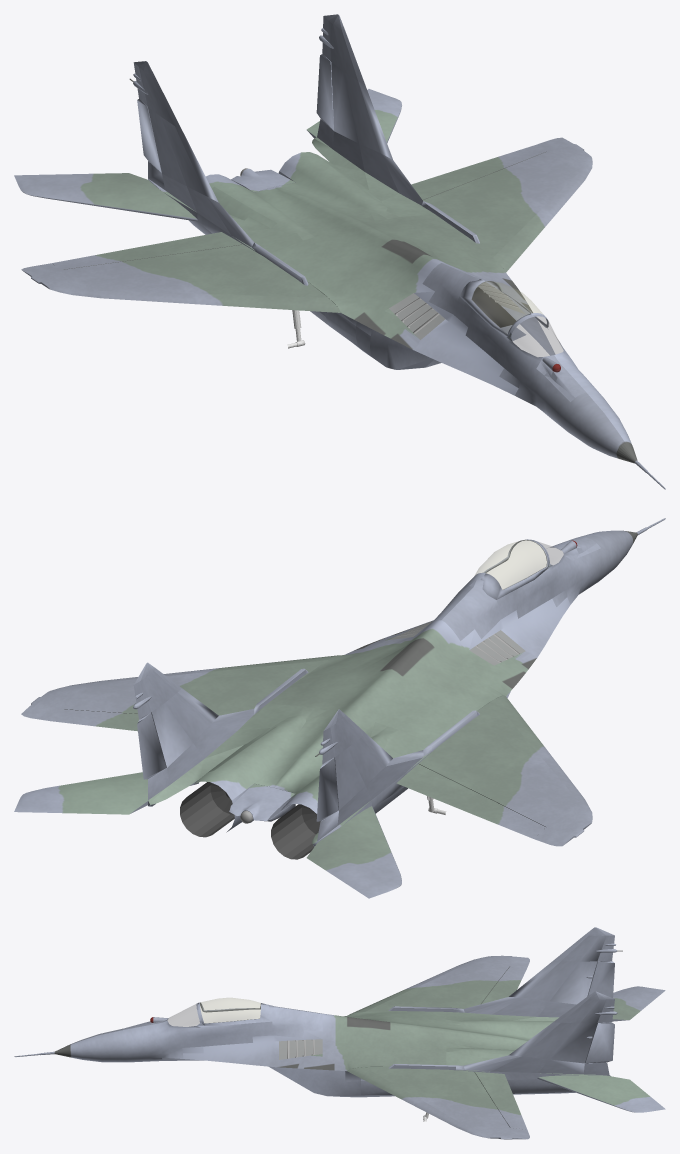
The model's file is mig-29.glb.
The picture shows the model from 3 angles, top to bottom: view 1: azimuth 30°, elevation 25°; view 2: azimuth 150°, elevation 25°; view 3: azimuth 270°, elevation 25°; orthographic projection. The views are drawn at different scales.
Visible parts, largest first — view 1: geometry_0, geometry_2, geometry_7, geometry_9, geometry_5; view 2: geometry_0, geometry_4, geometry_2, geometry_7; view 3: geometry_0, geometry_2, geometry_7, geometry_9.
Boxes of the visible parts, <box> form: geometry_0: <box>14,14,637,463</box>; geometry_2: <box>471,281,542,334</box>; geometry_7: <box>389,282,525,339</box>; geometry_9: <box>511,316,563,356</box>; geometry_5: <box>472,287,516,327</box>; geometry_0: <box>14,530,637,898</box>; geometry_4: <box>180,782,320,859</box>; geometry_2: <box>475,540,547,589</box>; geometry_7: <box>389,621,525,665</box>; geometry_0: <box>54,927,665,1139</box>; geometry_2: <box>200,998,260,1023</box>; geometry_7: <box>279,1039,322,1059</box>; geometry_9: <box>168,1004,199,1026</box>.
Bounding box in the file's own units: 11.45 × 4.03 × 17.24.
9 materials, 1 textured.
